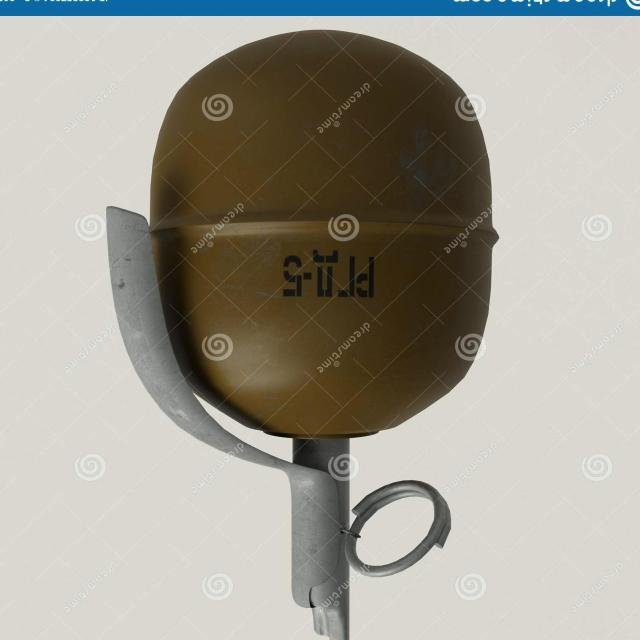grenade: (106, 31, 499, 640)
